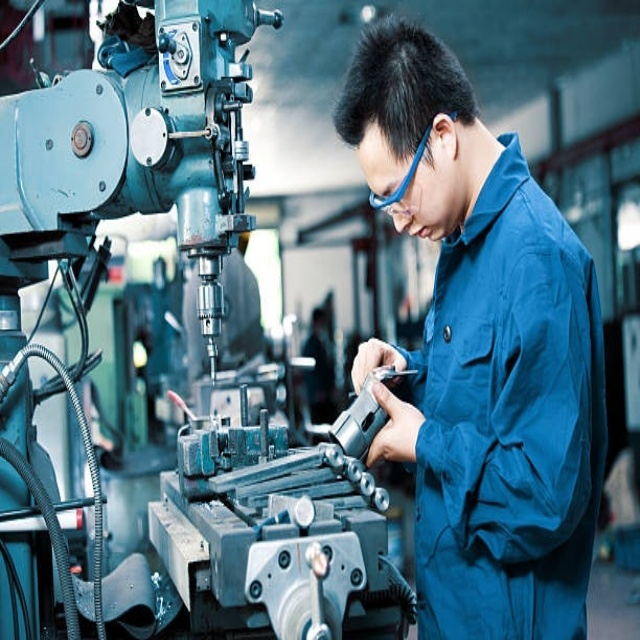Gafas: (370, 112, 456, 212)
Sin_guantes: (360, 379, 422, 470), (345, 334, 408, 386)
Sin_mascara: (407, 213, 445, 246)
